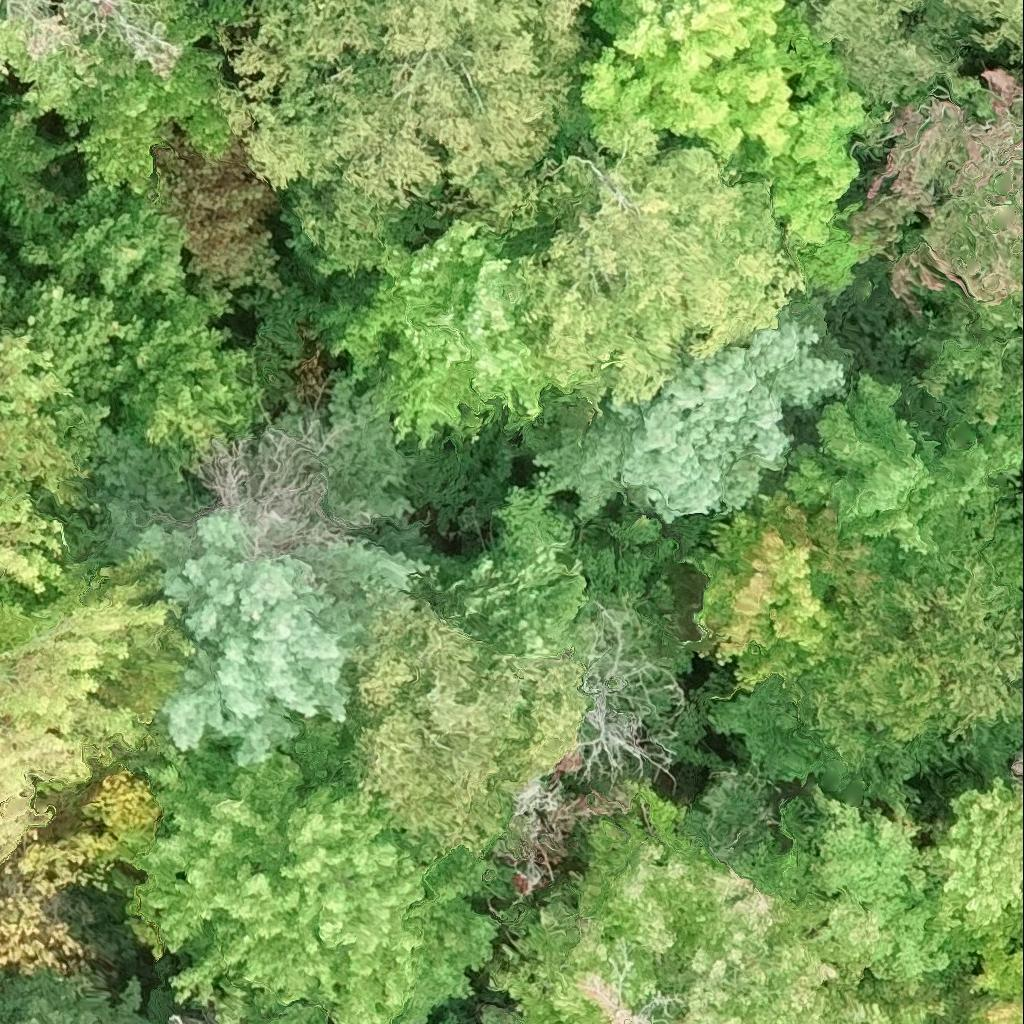crown: (220, 0, 583, 288), (576, 0, 867, 288), (518, 143, 805, 400), (537, 313, 846, 520), (335, 219, 573, 446), (850, 68, 1023, 307), (0, 0, 256, 129), (57, 48, 242, 193), (823, 0, 960, 102), (948, 0, 1023, 55)
